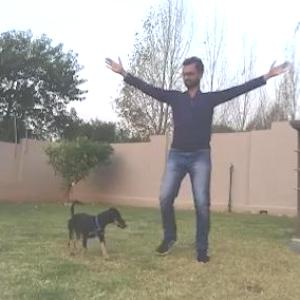takeoff: (111, 46, 283, 256)
